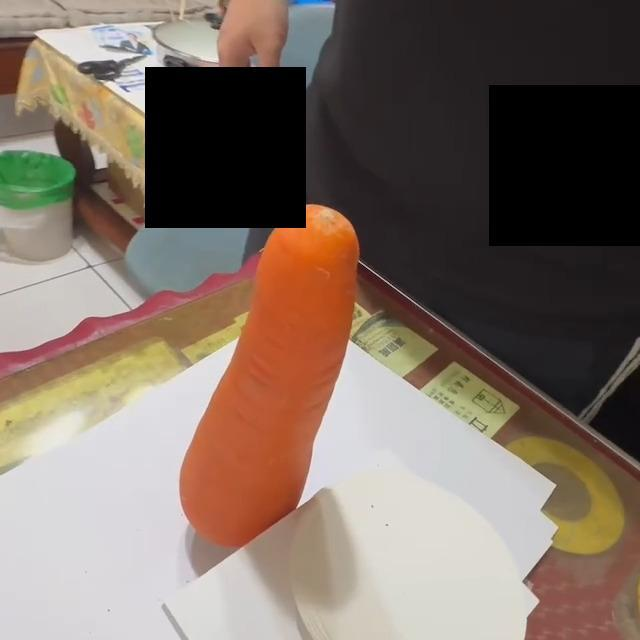carrot: (180, 204, 359, 550)
